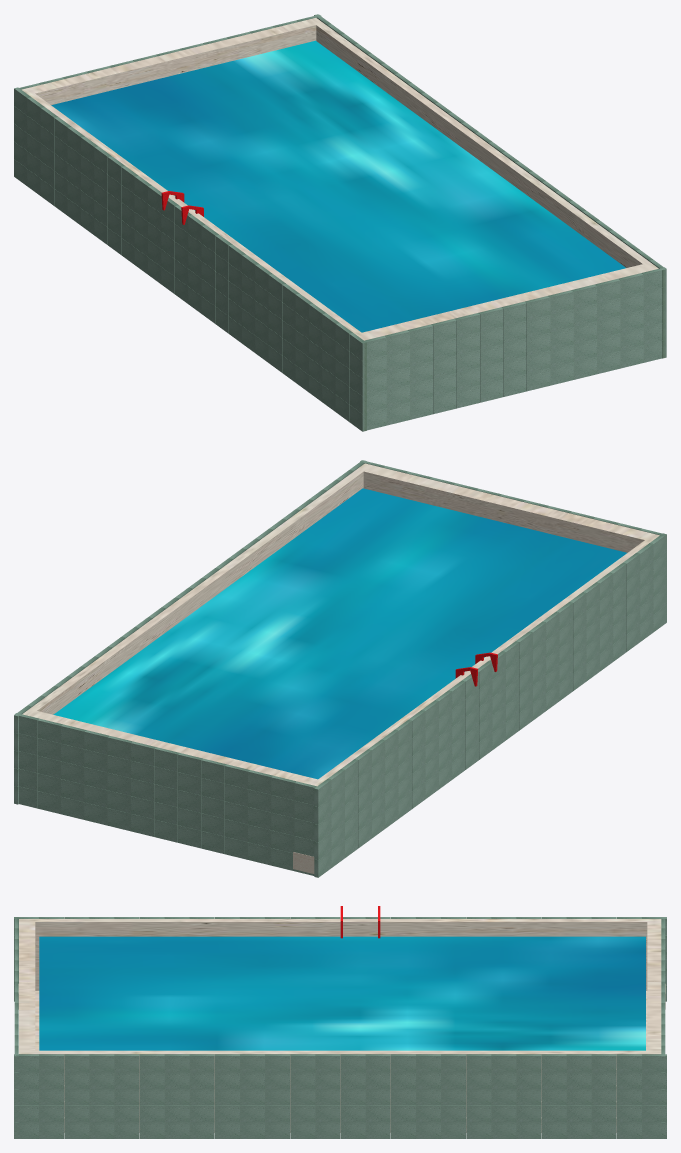
The model's file is Giant swimming pool.fbx.
3 renders of one model, top to bottom at view 1: azimuth 30°, elevation 25°; view 2: azimuth 150°, elevation 25°; view 3: azimuth 270°, elevation 25°, orthographic. The views are drawn at different scales.
Visible parts, largest first — view 1: Cube.001, Cube.006, Cube.005, Cube; view 2: Cube.001, Cube.006, Cube.005, Cube; view 3: Cube.001, Cube.006, Cube, Cube.005.
Boxes of the visible parts, left/top/right/bottom form: Cube.001: left=51, top=40, right=625, bottom=332; Cube.006: left=14, top=14, right=666, bottom=431; Cube.005: left=19, top=14, right=666, bottom=430; Cube: left=21, top=18, right=658, bottom=340; Cube.001: left=53, top=488, right=626, bottom=779; Cube.006: left=14, top=460, right=666, bottom=877; Cube.005: left=14, top=460, right=665, bottom=875; Cube: left=22, top=463, right=659, bottom=873; Cube.001: left=39, top=936, right=645, bottom=1050; Cube.006: left=14, top=917, right=666, bottom=1138; Cube: left=18, top=919, right=665, bottom=1132; Cube.005: left=14, top=917, right=665, bottom=1122.
Size of the model in its own units: 11010 by 3551 by 21424.
Materials: 4 (4 with a texture image).
